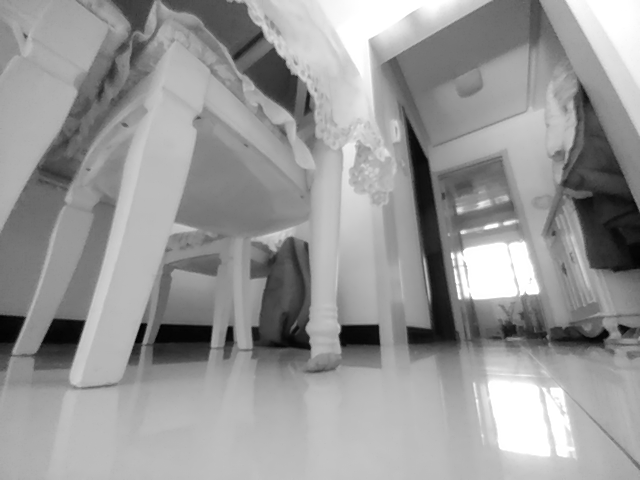pet feces: (301, 352, 343, 373)
